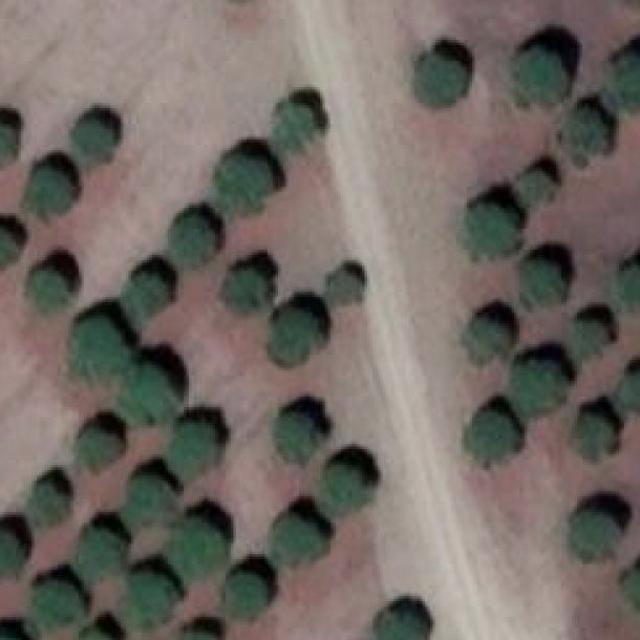Tree: (68, 316, 131, 384), (509, 48, 572, 111), (511, 354, 572, 416), (464, 407, 519, 470), (126, 562, 178, 628), (462, 203, 519, 260), (170, 512, 222, 573), (125, 468, 180, 523), (217, 155, 273, 208), (417, 53, 472, 106), (273, 407, 325, 463), (516, 258, 567, 311), (76, 428, 133, 475), (270, 311, 320, 363), (572, 507, 619, 562), (560, 106, 606, 162), (75, 528, 126, 578), (322, 463, 375, 510), (31, 580, 82, 628), (568, 412, 614, 463), (275, 516, 325, 562), (172, 215, 217, 266), (128, 267, 173, 318), (26, 166, 77, 211), (128, 370, 175, 418), (222, 570, 270, 617), (28, 268, 74, 314), (26, 484, 74, 528), (175, 421, 217, 468), (228, 268, 270, 314), (275, 101, 315, 148), (464, 318, 504, 363), (375, 606, 427, 640), (74, 118, 115, 160), (614, 50, 640, 108), (519, 168, 556, 208), (0, 524, 30, 573), (574, 318, 605, 358), (614, 266, 640, 308), (0, 122, 23, 167), (622, 566, 640, 614), (174, 624, 224, 640), (624, 370, 640, 418), (329, 273, 354, 302), (0, 226, 18, 266), (76, 627, 112, 640), (0, 629, 26, 640)
